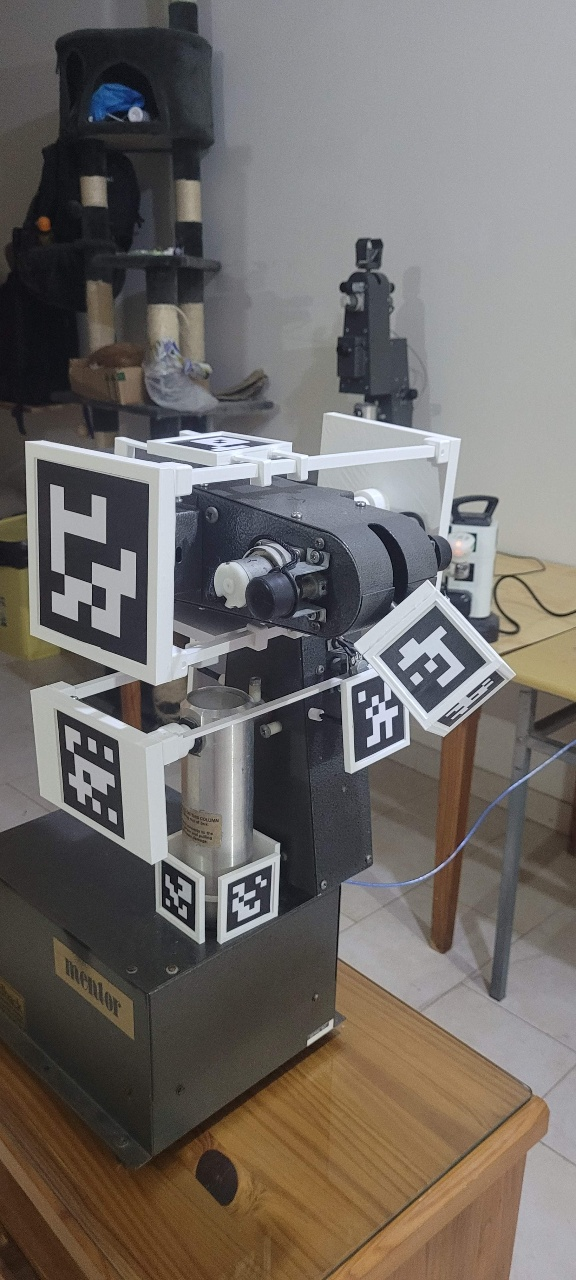Robot: (24, 408, 521, 946)
